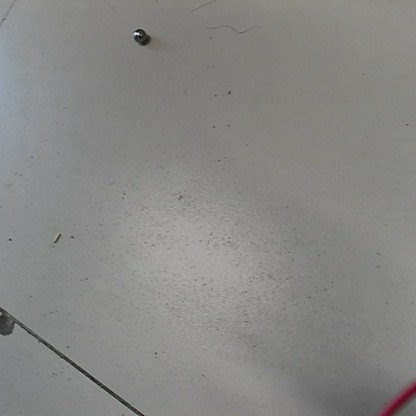ironball: (129, 25, 149, 46)
